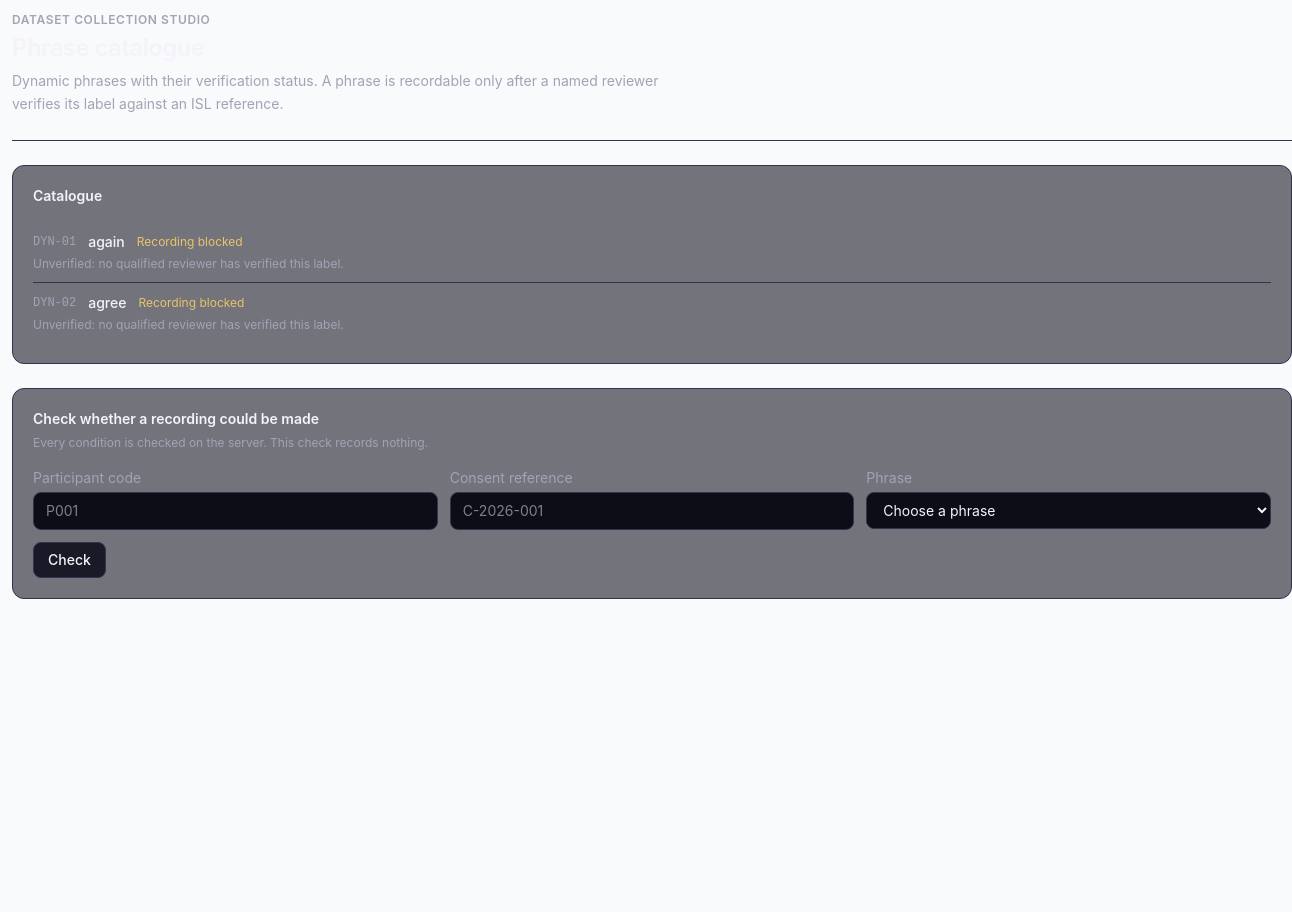
Test: PhraseCatalogPanel › shows the server reasons when a check is refused, and never reports a recording
Select "again" in the dropdown labelled "Phrase" at (1069, 510), box 866,492 -> 1271,529
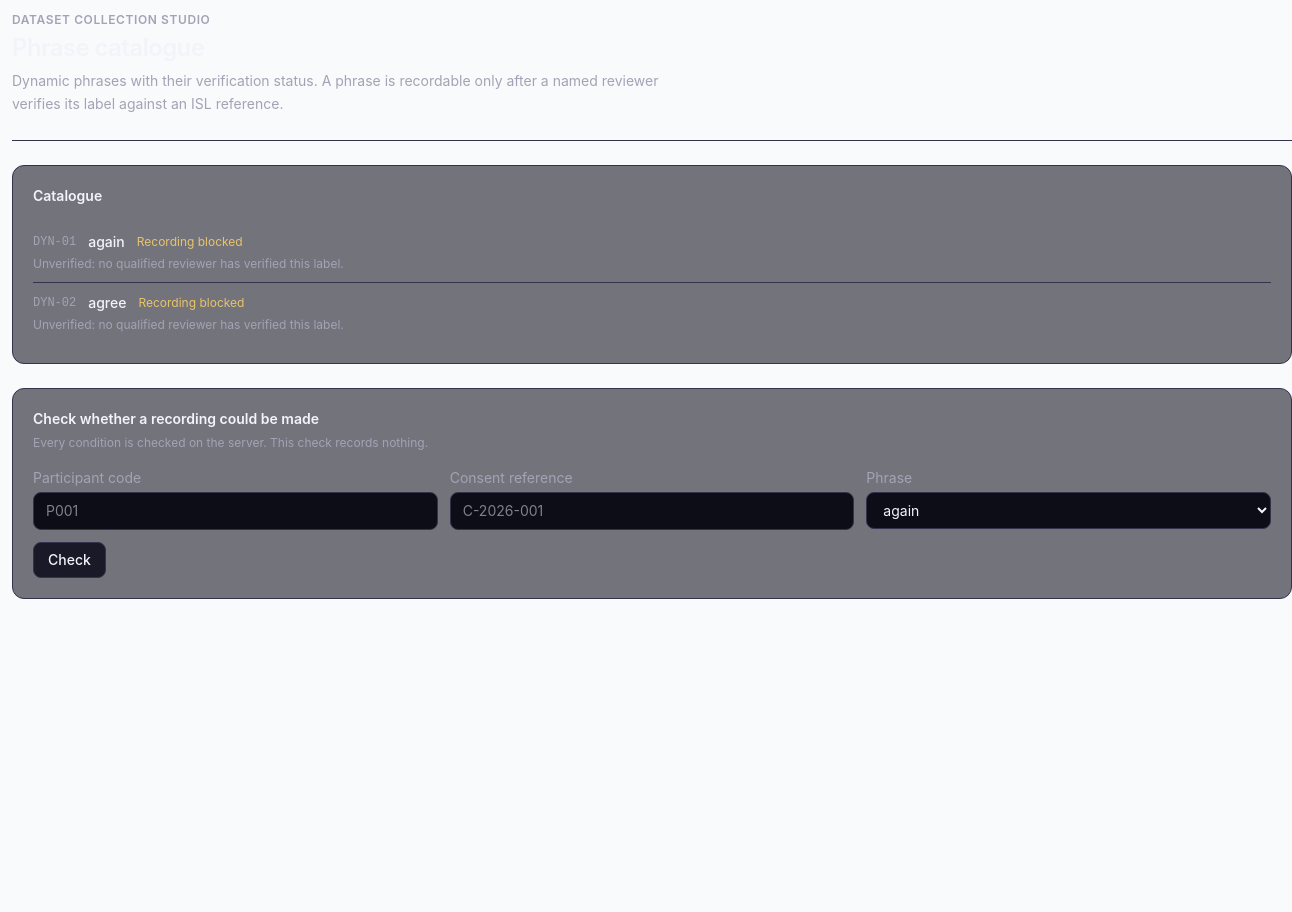
Click the button "Check" at (69, 560), box 33,542 -> 106,578
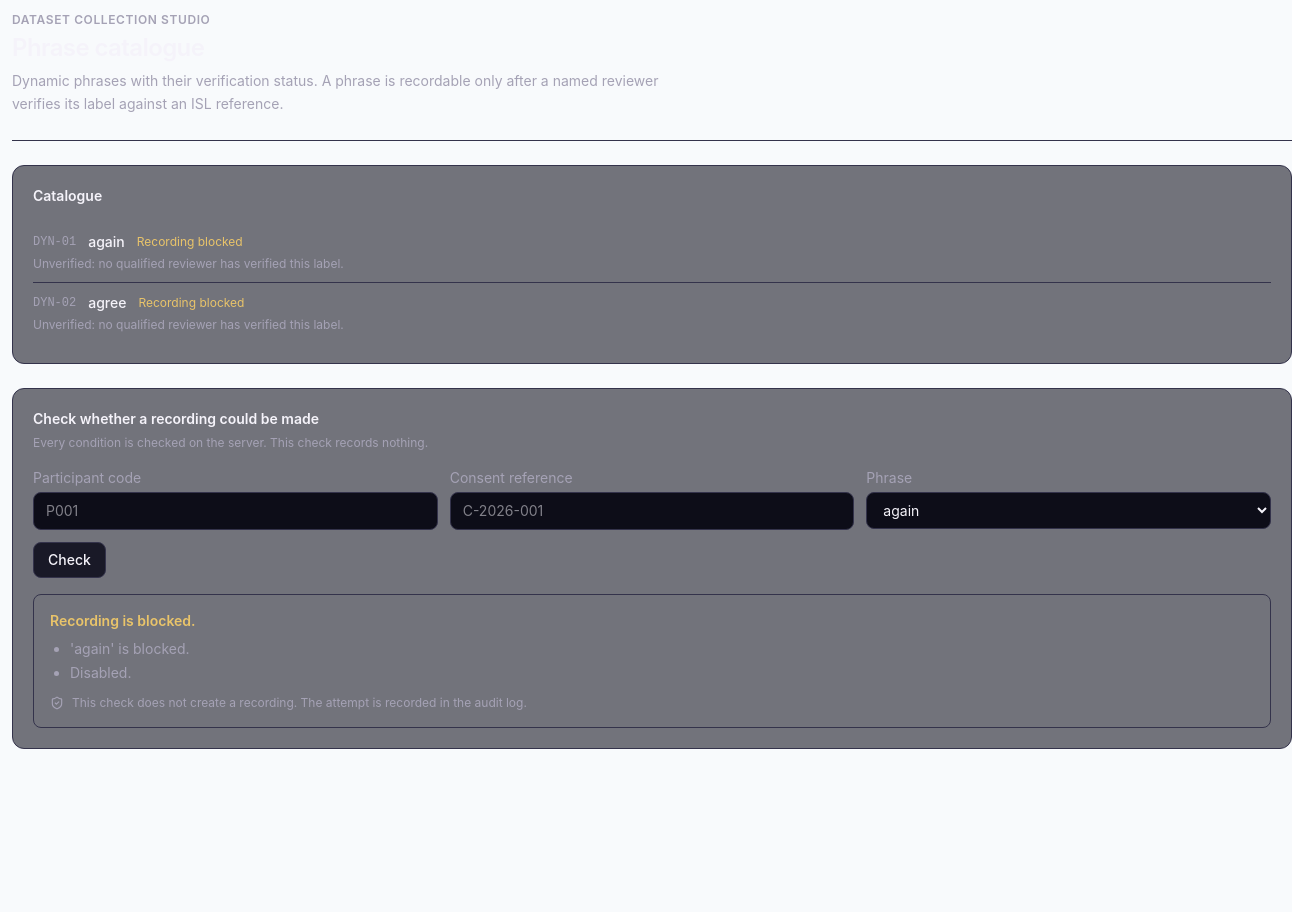
Result: the text "Recording is blocked." is shown at 50,612 -> 196,629
Result: the list item "'again' is blocked." is shown at 70,640 -> 190,657
Result: the list item "Disabled." is shown at 70,664 -> 132,681
